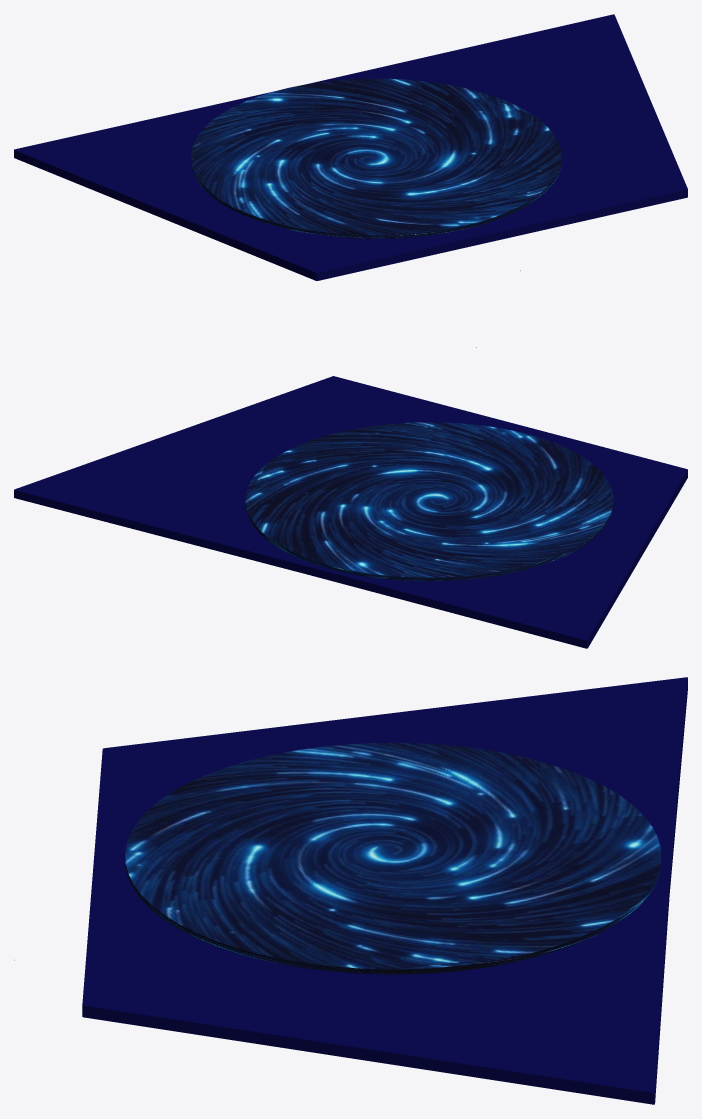
File: speed.glb
The picture shows the model from 3 angles, top to bottom: view 1: azimuth 30°, elevation 25°; view 2: azimuth 150°, elevation 25°; view 3: azimuth 270°, elevation 25°; orthographic projection. The views are drawn at different scales.
Parts seen in each view (by area): view 1: Gengon003, Cylinder040; view 2: Gengon003, Cylinder040; view 3: Gengon003, Cylinder040.
Part boxes in pixels (left/top/right/bottom): Gengon003: left=14, top=14, right=687, bottom=280; Cylinder040: left=191, top=78, right=561, bottom=238; Gengon003: left=14, top=376, right=687, bottom=648; Cylinder040: left=245, top=422, right=613, bottom=581; Gengon003: left=82, top=677, right=687, bottom=1104; Cylinder040: left=125, top=742, right=661, bottom=974.
Size of the model in its own units: 1.9 by 0.2694 by 1.3.
5 materials, 4 textured.
